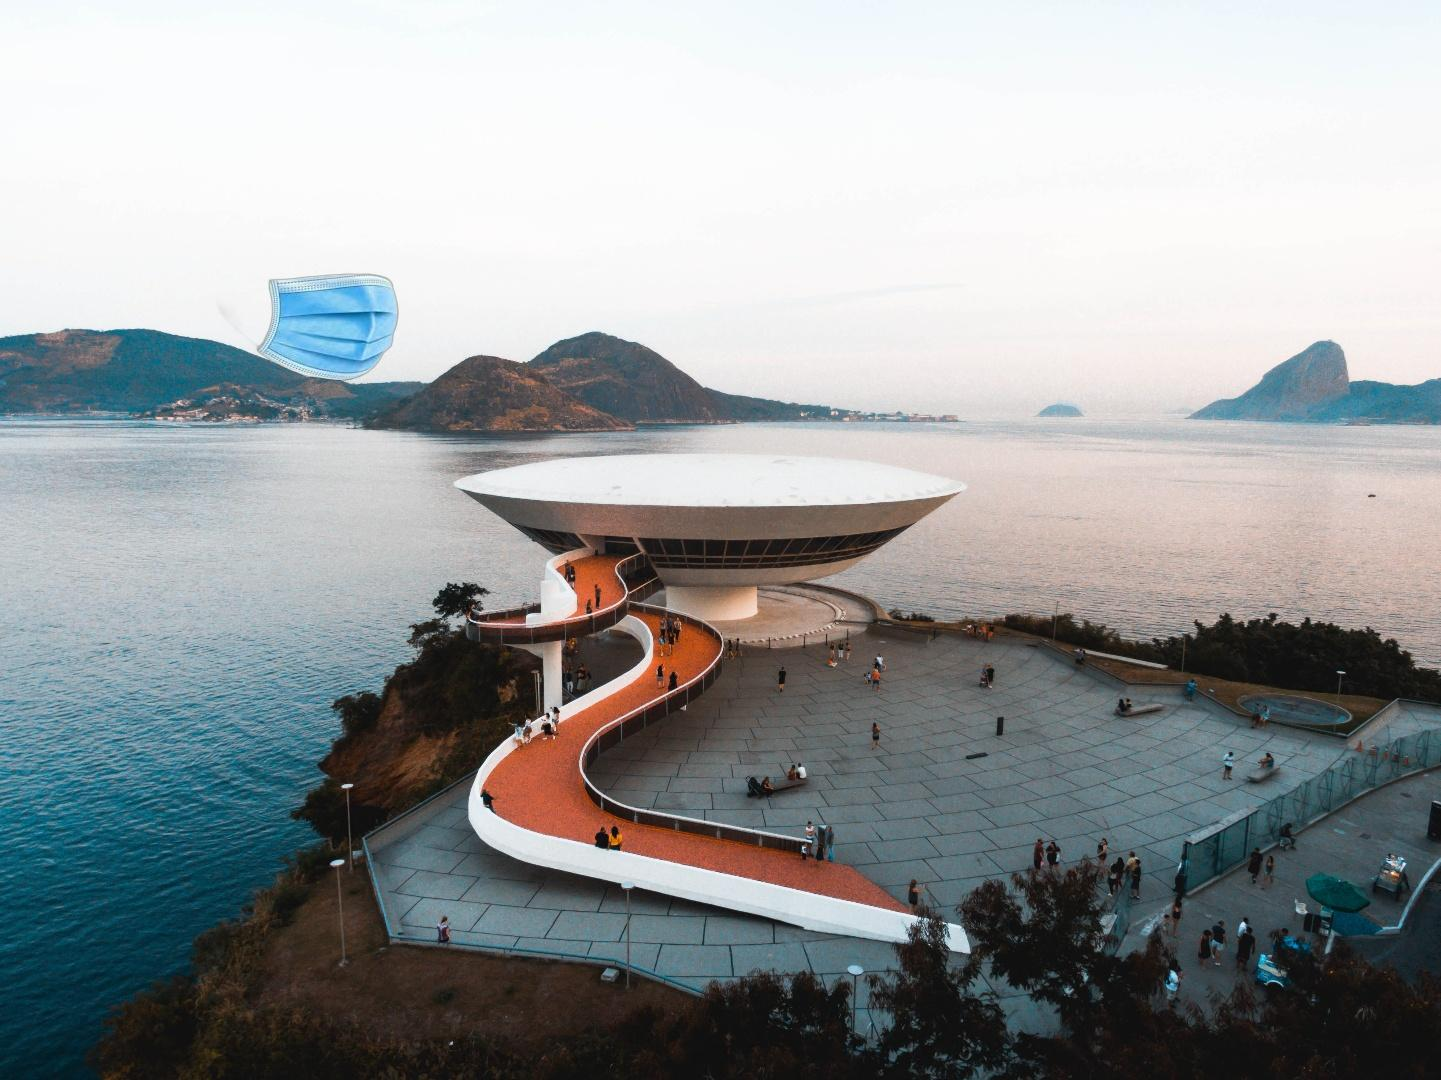trash: (214, 270, 401, 383)
